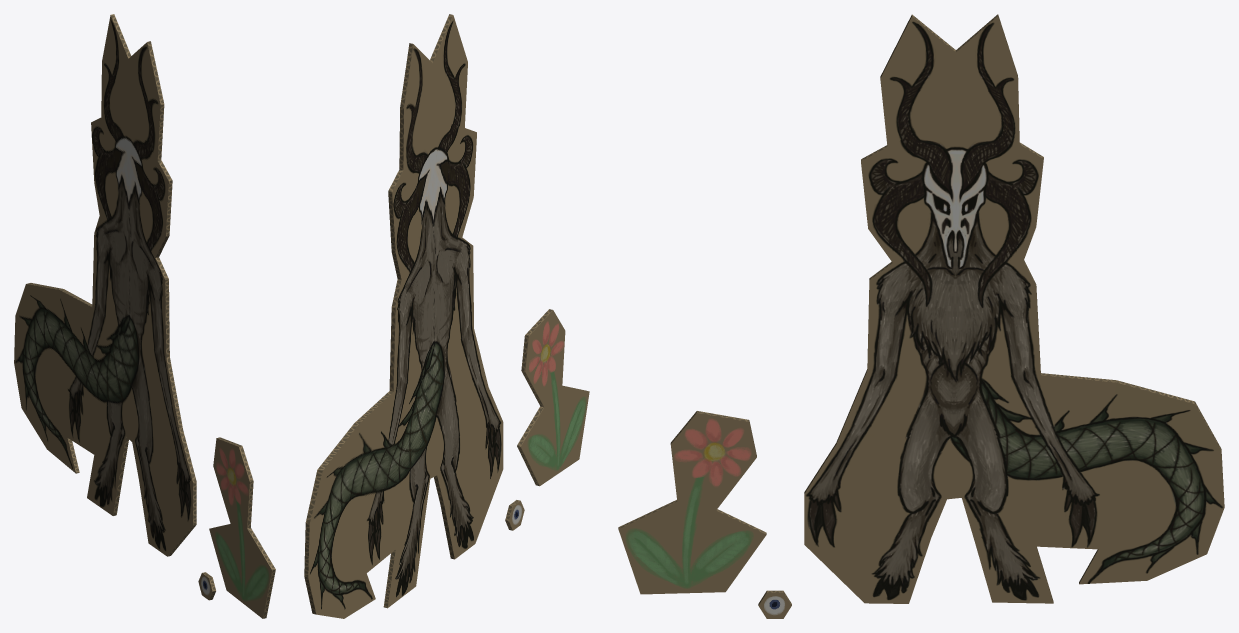
File: Flower_n_monster.fbx
3 renders of one model, left to right at view 1: azimuth 30°, elevation 25°; view 2: azimuth 150°, elevation 25°; view 3: azimuth 270°, elevation 25°, orthographic. The views are drawn at different scales.
Visible parts, largest first — view 1: Monster1_Mesh, Flower_Mesh, Eye_Mesh; view 2: Monster1_Mesh, Flower_Mesh, Eye_Mesh; view 3: Monster1_Mesh, Flower_Mesh.
Boxes of the visible parts, box(x1,y1,x2,y2) form: Monster1_Mesh: box(14, 14, 196, 556); Flower_Mesh: box(209, 437, 275, 618); Eye_Mesh: box(198, 572, 215, 600); Monster1_Mesh: box(304, 14, 503, 618); Flower_Mesh: box(517, 309, 589, 486); Eye_Mesh: box(505, 500, 524, 530); Monster1_Mesh: box(804, 14, 1224, 603); Flower_Mesh: box(618, 411, 766, 594).
Bounding box in the file's own units: 4.03 × 398 × 363.
2 materials, 2 textured.
